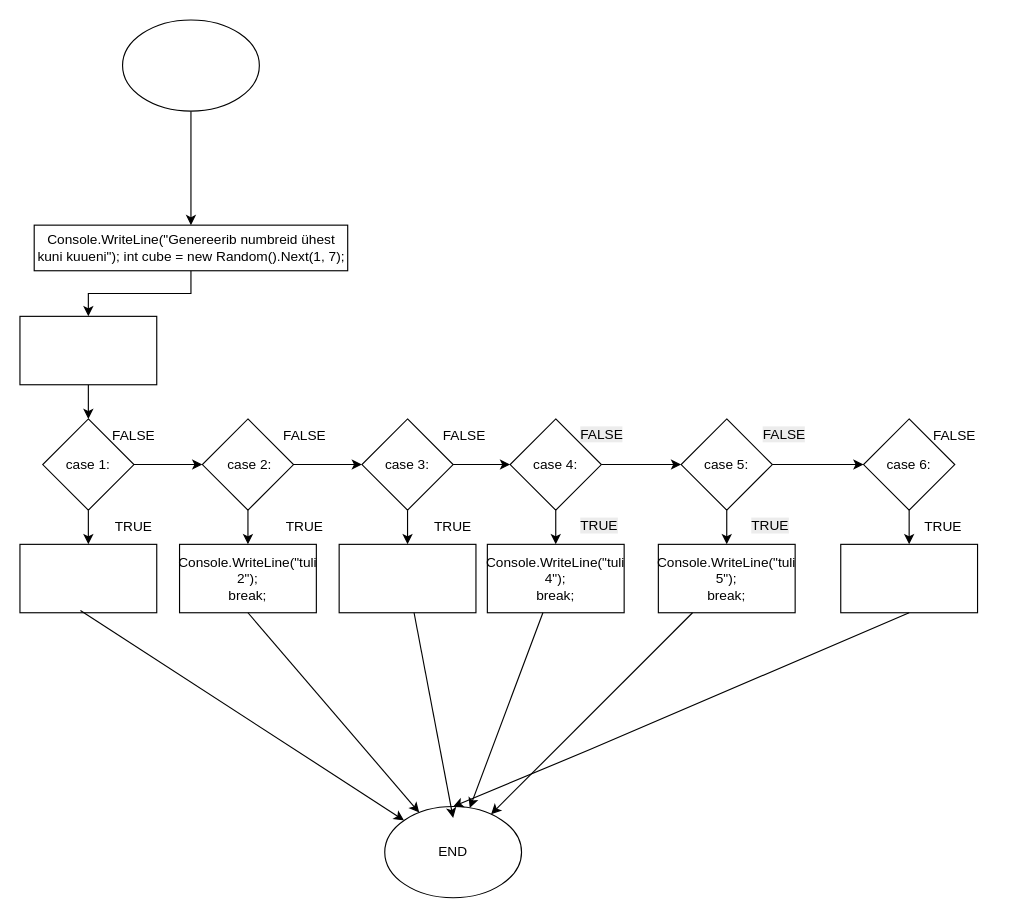
The diagram is 1009 pixels wide and 918 high, and some of its shapes have lost their labels. Here are the shapes that lost their labels. From the top down, the centre of each, then its label:
(x=190, y=65): START
(x=88, y=350): switch (cube)
(x=88, y=578): Console.WriteLine("tuli 1"); break;
(x=407, y=578): Console.WriteLine("tuli 3"); break;
(x=909, y=578): Console.WriteLine("tuli 6"); break;
